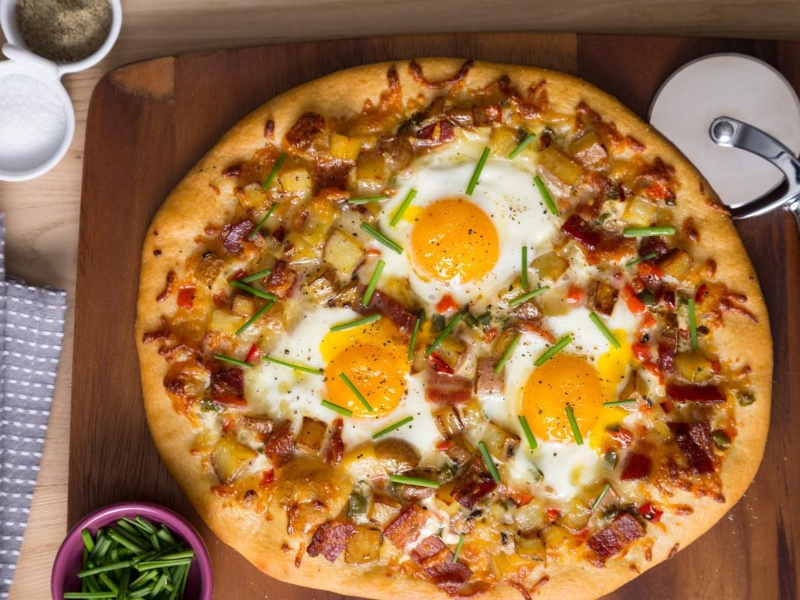oeuf: (393, 190, 519, 297), (298, 331, 419, 430), (511, 341, 610, 459)
